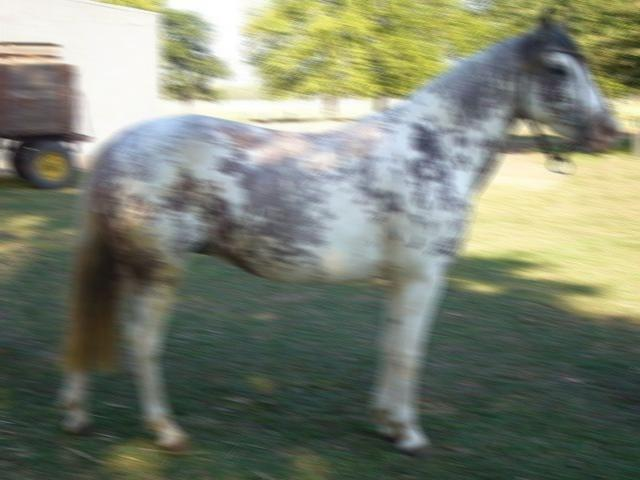horse: (55, 2, 624, 459)
